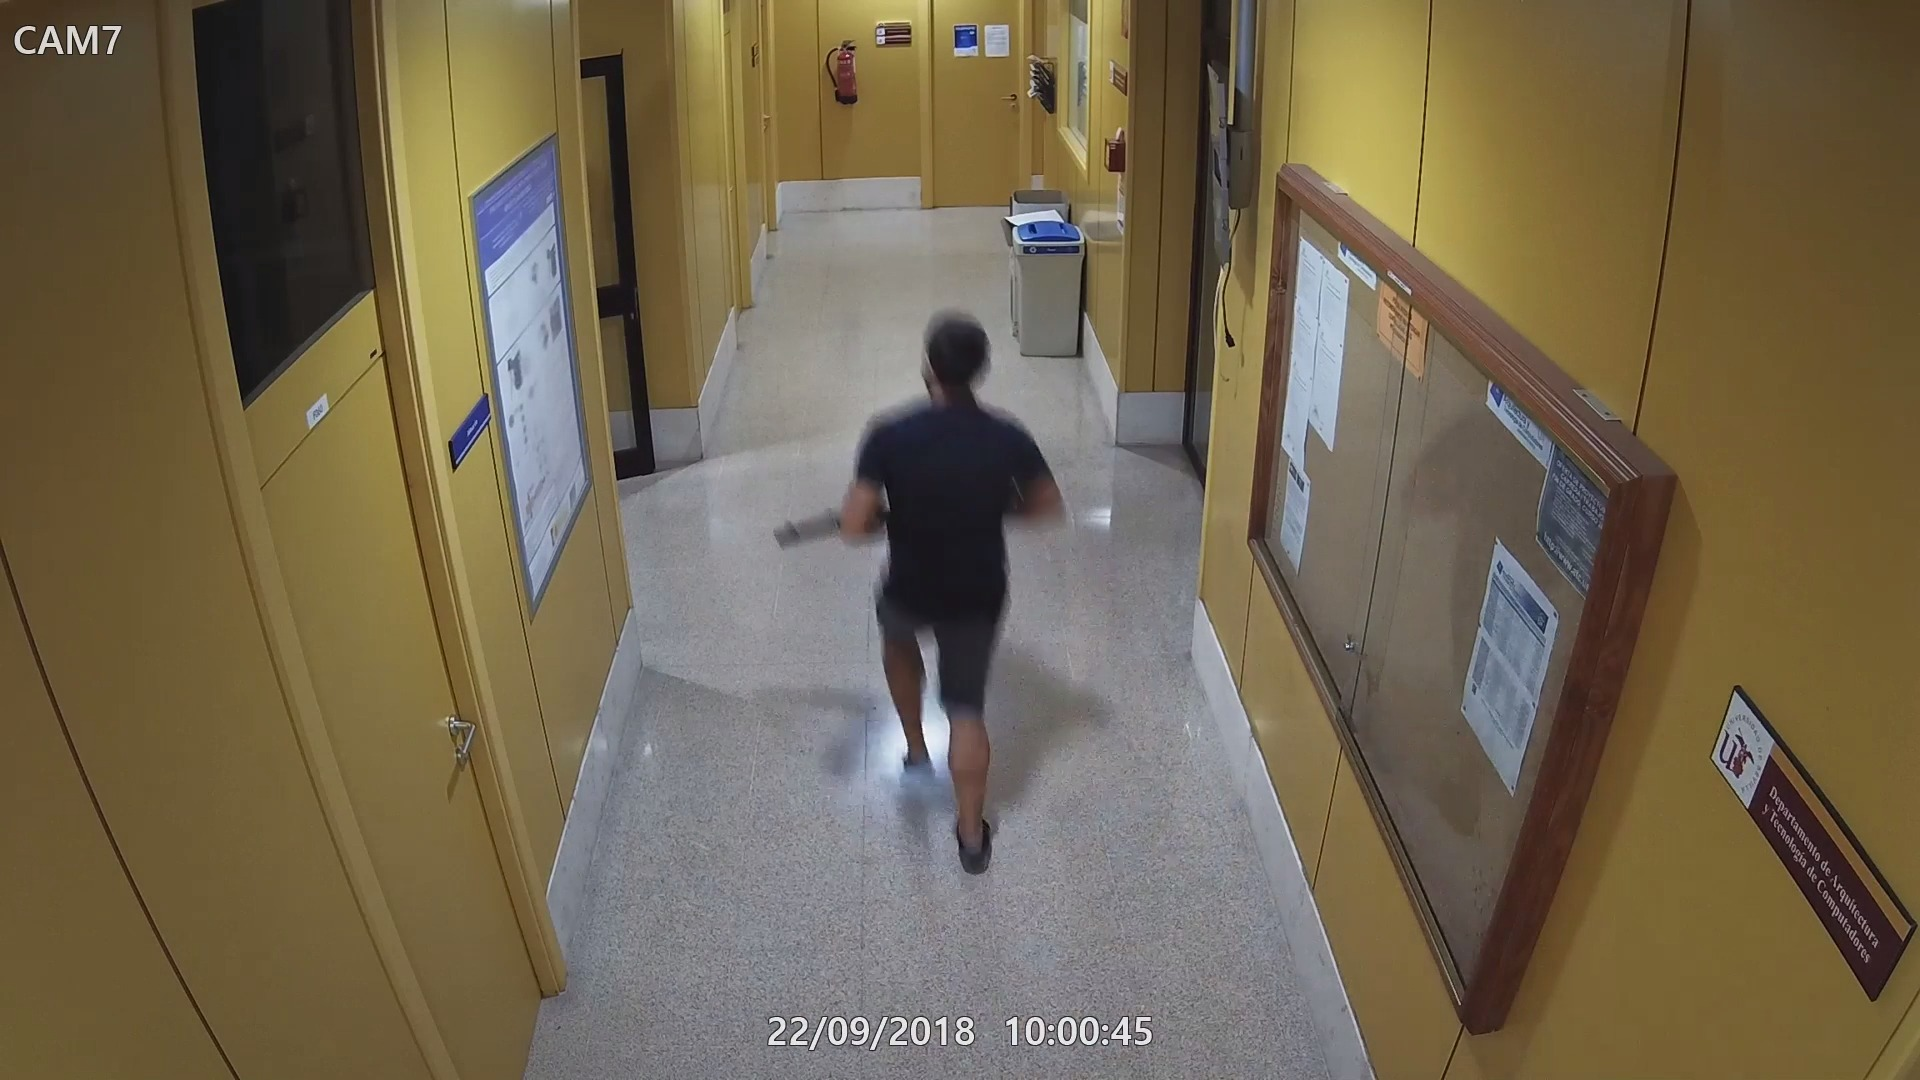Short_rifle: (761, 504, 889, 545)
